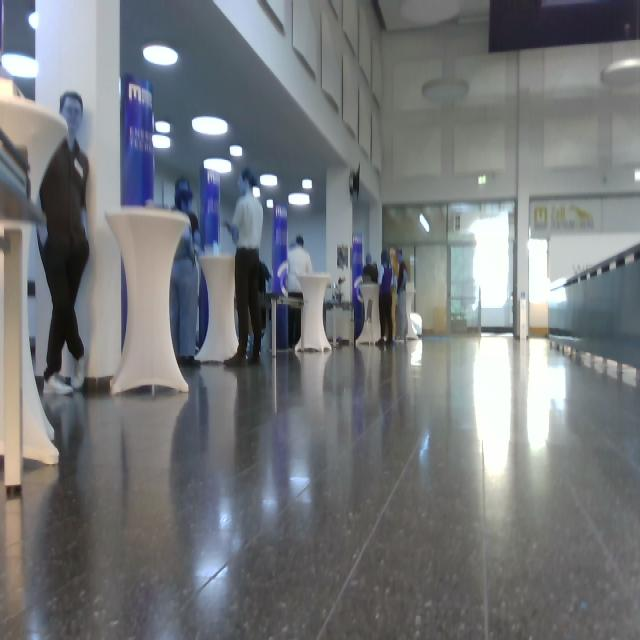door: (448, 200, 516, 334)
light bulb: (400, 1, 463, 28), (422, 77, 469, 104), (601, 57, 640, 88), (2, 52, 39, 78), (143, 44, 179, 66), (192, 116, 228, 136), (204, 159, 232, 175), (288, 193, 310, 206), (152, 134, 171, 149), (419, 213, 430, 233), (260, 175, 278, 187), (155, 121, 171, 134), (28, 12, 39, 30), (230, 145, 243, 157), (302, 179, 313, 191), (253, 187, 261, 199), (266, 198, 274, 209)
person: (38, 92, 91, 396), (223, 168, 265, 368), (170, 178, 203, 368)
table: (103, 205, 195, 400)
tiled floor: (2, 331, 639, 639)
